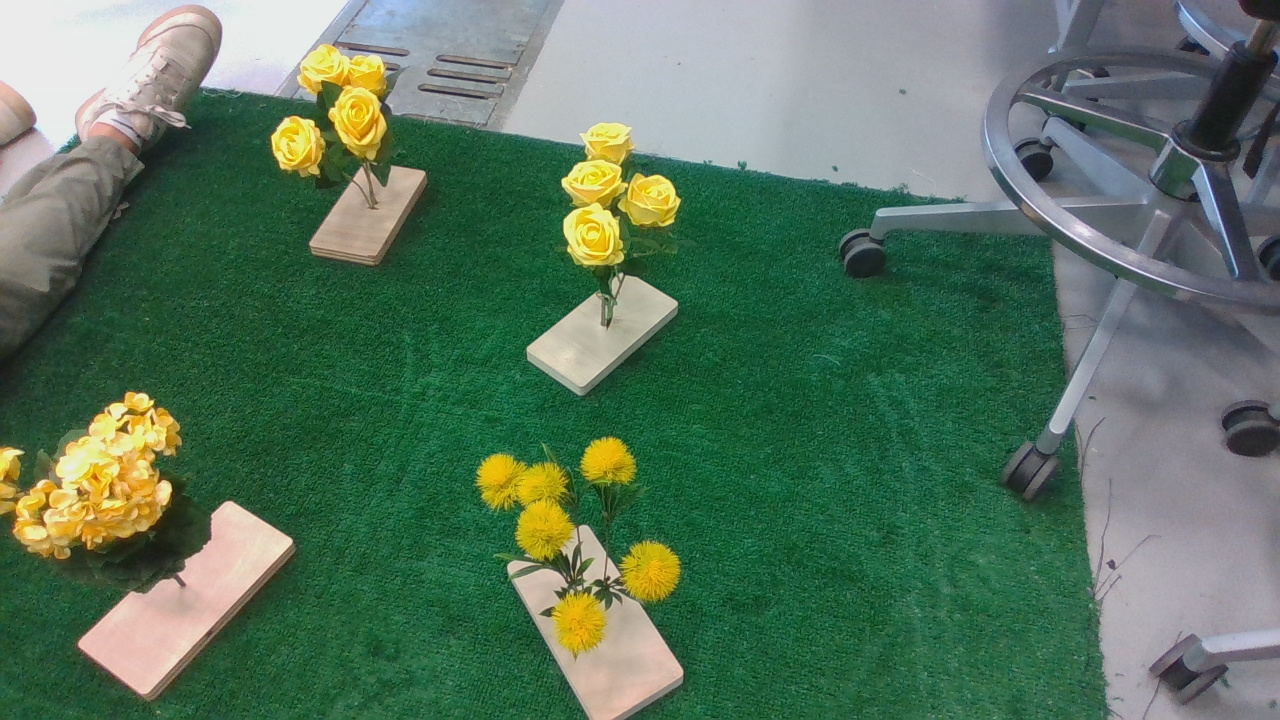dandelion: (465, 431, 694, 667)
geranium: (5, 387, 222, 603)
rose: (262, 47, 416, 215), (544, 124, 689, 299)
